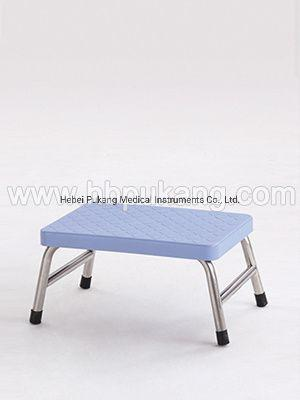stool: (22, 190, 275, 348)
